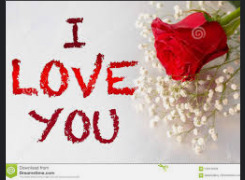RedRose: (129, 9, 233, 84)
